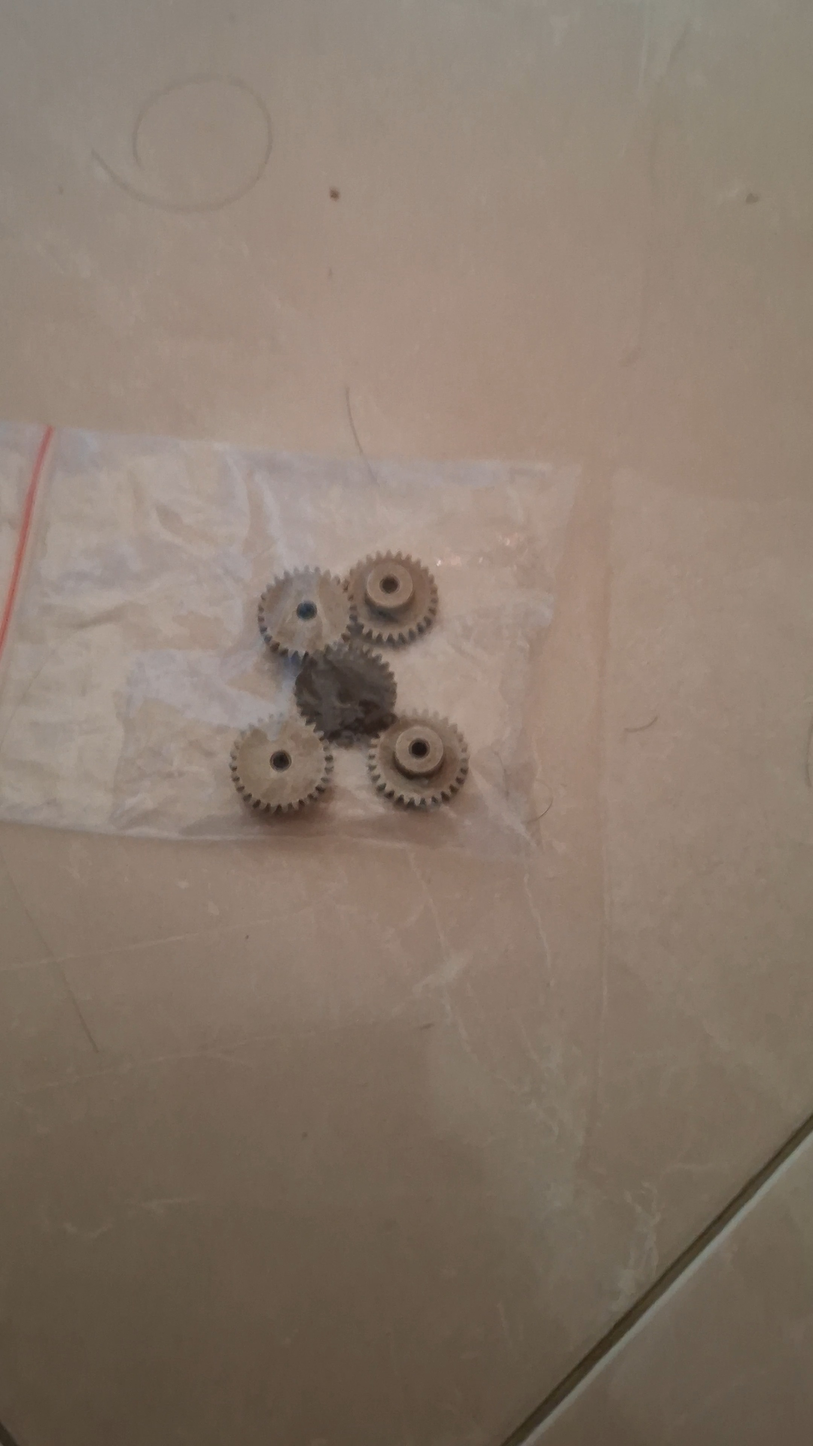spur gear: (294, 643, 396, 742), (231, 714, 332, 813), (368, 714, 468, 807), (347, 553, 437, 644), (258, 569, 350, 658)
